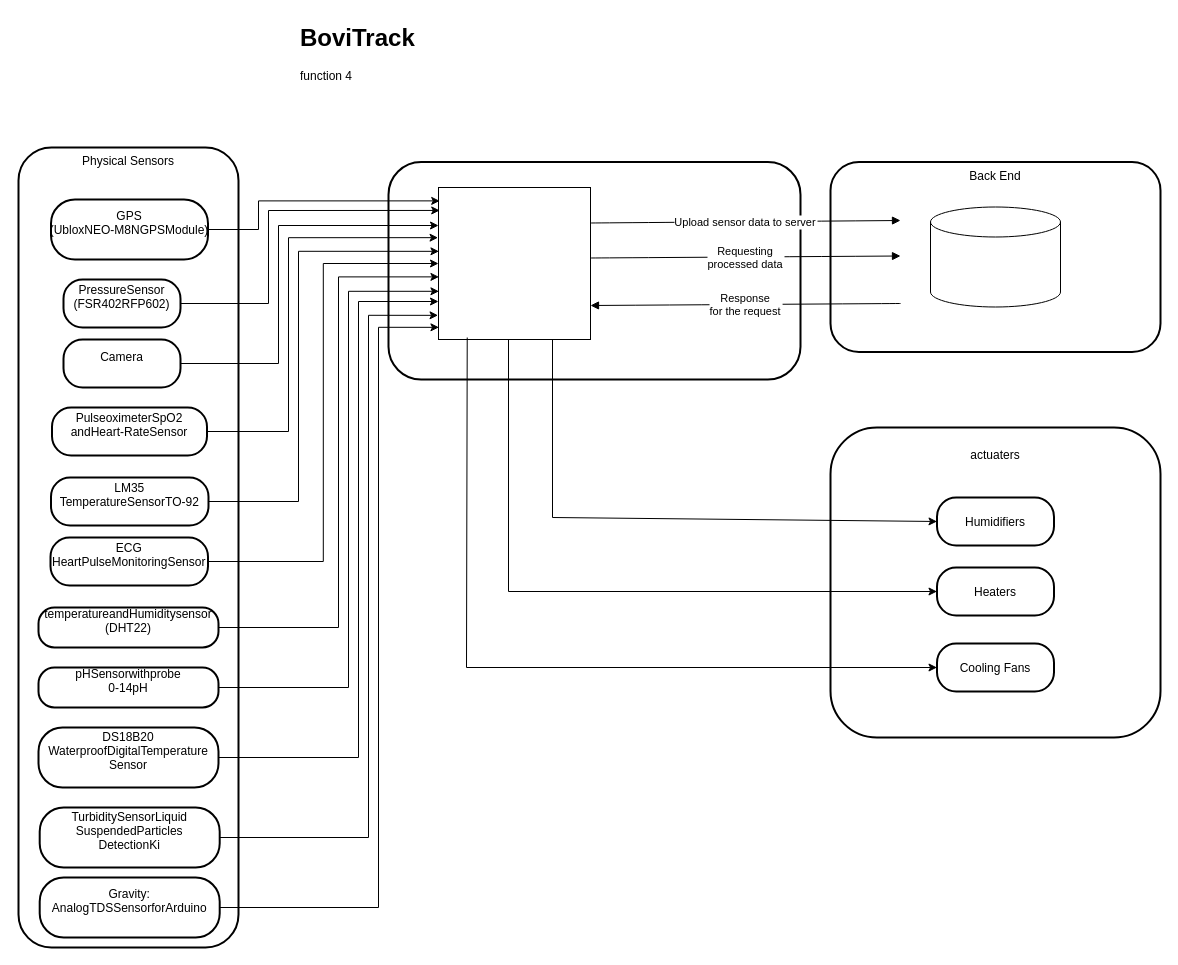
Image size: 1178x965. Some labels were removed from this diagram. The shapes that lost their labels are listed below. From the top down, each one's centre as x and y in pixels, then its label:
At point (514, 263): "ESP 32 micro Controller".
At point (995, 256): "Server".
